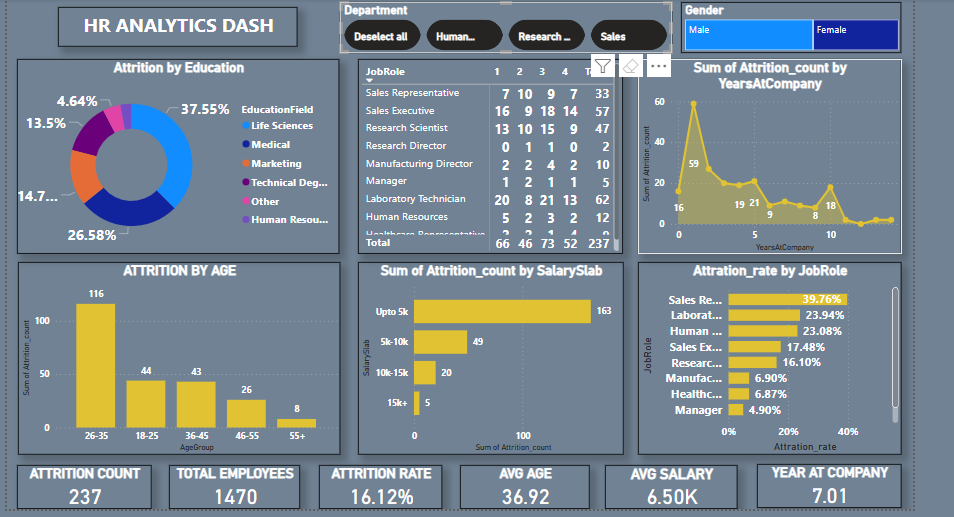

The page's visual inventory and layout, read from the dashboard file:
{"tool":"powerbi","page":{"name":"Page 1","canvas":[1280,720],"ordinal":0},"visuals":[{"type":"card","title":"ATTRITION COUNT","fields":{"Values":["Sum(HR_Analytics.Attrition_count)"]},"box":[14.4,658.5,189.8,61.5],"z":0},{"type":"card","title":"TOTAL EMPLOYEES","fields":{"Values":["Sum(HR_Analytics.EmployeeCount)"]},"box":[229.1,658.5,184.6,61.5],"z":1000},{"type":"card","title":"ATTRITION RATE","fields":{"Values":["HR_Analytics.Attration_rate"]},"box":[439.9,658.5,174.1,61.5],"z":2000},{"type":"card","title":"AVG AGE","fields":{"Values":["Avg(HR_Analytics.Age)"]},"box":[640.1,658.5,183.3,61.5],"z":3000},{"type":"card","title":"AVG SALARY","fields":{"Values":["Avg(HR_Analytics.MonthlyIncome)"]},"box":[844.4,658.5,187.2,61.5],"z":4000},{"type":"card","title":"YEAR AT COMPANY","fields":{"Values":["Avg(HR_Analytics.YearsAtCompany)"]},"box":[1059.1,657.2,204.2,61.5],"z":5000},{"type":"pieChart","title":"Attrition by Education","fields":{"Category":["HR_Analytics.EducationField"],"Y":["Sum(HR_Analytics.Attrition_count)"]},"box":[14.4,85,455,275],"z":6000},{"type":"clusteredColumnChart","title":"ATTRITION BY AGE","fields":{"Category":["HR_Analytics.AgeGroup"],"Y":["Sum(HR_Analytics.Attrition_count)"]},"box":[15,371.7,455,271.7],"z":7000},{"type":"pivotTable","fields":{"Rows":["HR_Analytics.JobRole"],"Values":["Sum(HR_Analytics.Attrition_count)"],"Columns":["HR_Analytics.JobSatisfaction"]},"box":[495.4,85,374.4,275],"z":8000},{"type":"clusteredBarChart","fields":{"Category":["HR_Analytics.SalarySlab"],"Y":["Sum(HR_Analytics.Attrition_count)"]},"box":[495,371.7,375,271.7],"z":9000},{"type":"stackedAreaChart","fields":{"Y":["Sum(HR_Analytics.Attrition_count)"],"Category":["HR_Analytics.YearsAtCompany"]},"box":[891.4,85,371.5,275],"z":10000},{"type":"clusteredBarChart","fields":{"Category":["HR_Analytics.JobRole"],"Y":["HR_Analytics.Attration_rate"]},"box":[891.5,371.8,371.8,272.3],"z":11000},{"type":"treemap","title":"Gender","fields":{"Group":["HR_Analytics.Gender"],"Values":["CountNonNull(HR_Analytics.Gender)"]},"box":[951.8,4.3,311,72],"z":12000},{"type":"advancedSlicerVisual","fields":{"Values":["HR_Analytics.Department"]},"box":[470,3.9,468.7,72],"z":13000},{"type":"textbox","box":[72,11.5,338.4,56.2],"z":13001}]}

Visuals, with their boxes in screenshot pixels (x1, y1, x2, y2):
"ATTRITION COUNT" card: (left=15, top=464, right=150, bottom=507)
"TOTAL EMPLOYEES" card: (left=167, top=464, right=298, bottom=507)
"ATTRITION RATE" card: (left=316, top=464, right=440, bottom=507)
"AVG AGE" card: (left=458, top=464, right=588, bottom=507)
"AVG SALARY" card: (left=603, top=464, right=735, bottom=507)
"YEAR AT COMPANY" card: (left=755, top=463, right=899, bottom=506)
"Attrition by Education" pieChart: (left=15, top=58, right=337, bottom=252)
"ATTRITION BY AGE" clusteredColumnChart: (left=16, top=261, right=338, bottom=453)
pivotTable - HR_Analytics.JobRole x Sum(HR_Analytics.Attrition_count): (left=356, top=58, right=621, bottom=252)
clusteredBarChart - HR_Analytics.SalarySlab x Sum(HR_Analytics.Attrition_count): (left=355, top=261, right=621, bottom=453)
stackedAreaChart - Sum(HR_Analytics.Attrition_count) x HR_Analytics.YearsAtCompany: (left=636, top=58, right=899, bottom=252)
clusteredBarChart - HR_Analytics.JobRole x HR_Analytics.Attration_rate: (left=636, top=261, right=899, bottom=453)
"Gender" treemap: (left=679, top=1, right=899, bottom=52)
advancedSlicerVisual - HR_Analytics.Department: (left=338, top=0, right=669, bottom=51)
textbox: (left=56, top=6, right=295, bottom=45)
